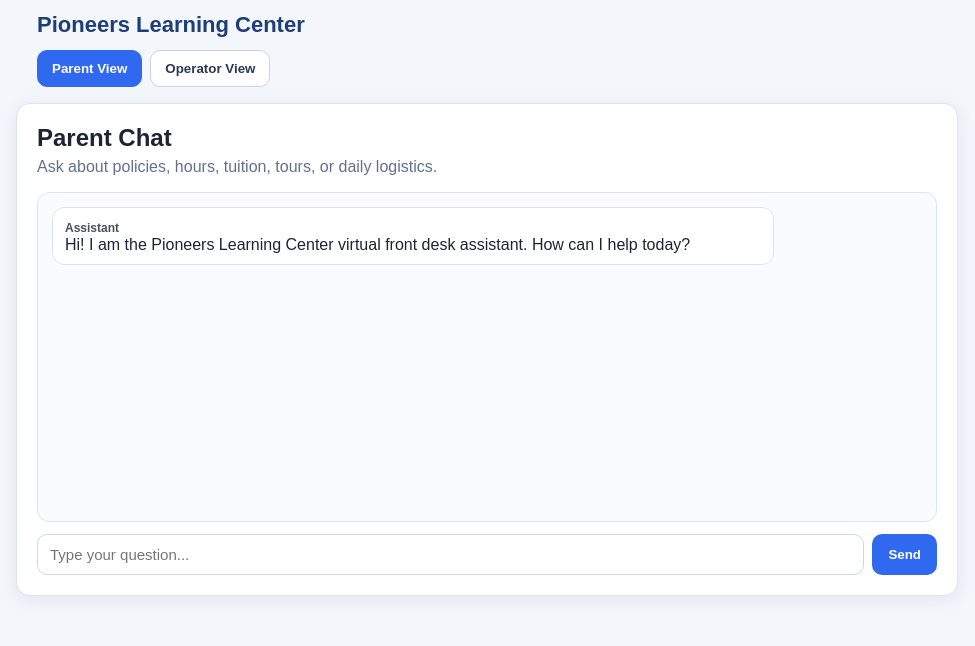
Scenario: getFallbackReply fallback keywords › returns hours for 'hour' keyword
Type "what are your hours" into the field with placeholder "Type your question..." at coordinates (451, 554), box [37, 534, 864, 575]
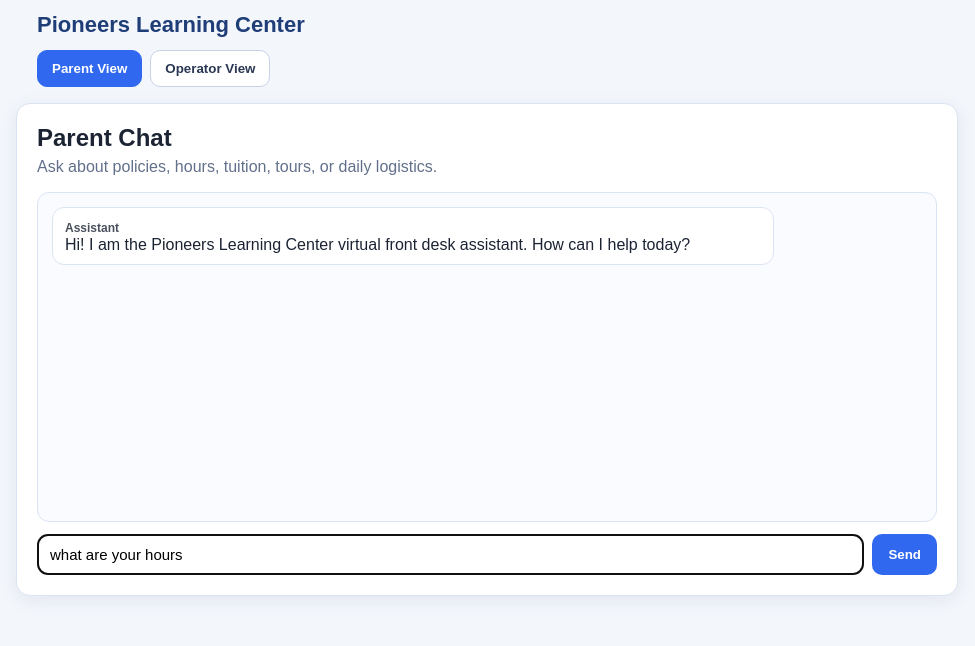
Submit the form with placeholder "type your question", box [37, 534, 937, 575]
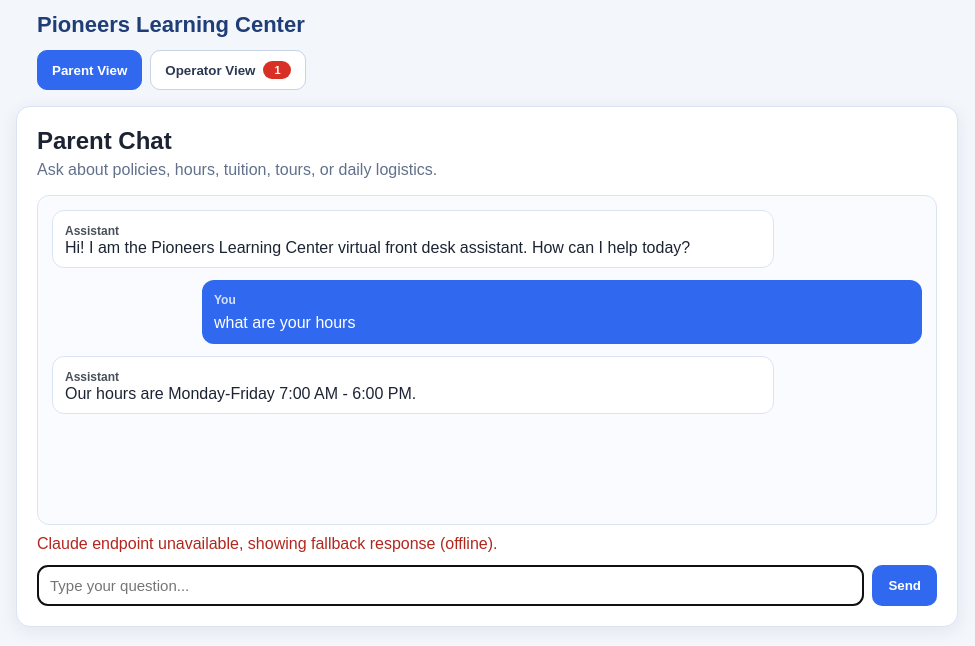
Result: the text "Our hours are Monday-Friday 7:00 AM - 6:00 PM." is shown at [65, 385, 416, 402]
